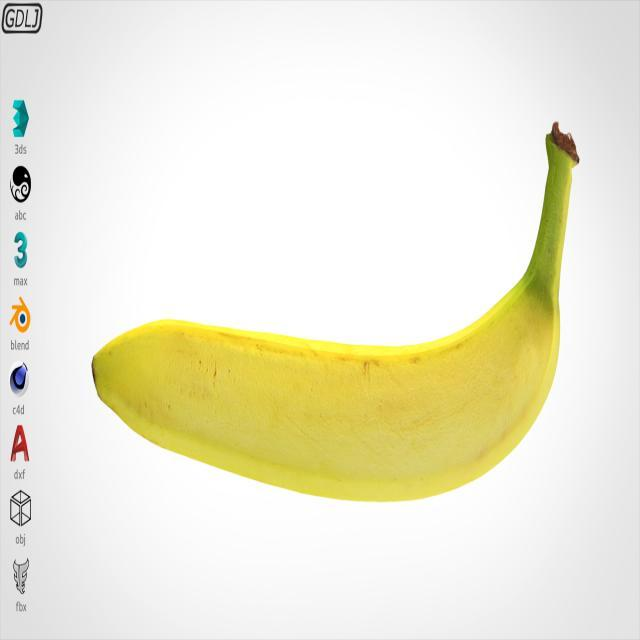Banana: (85, 124, 582, 502)
